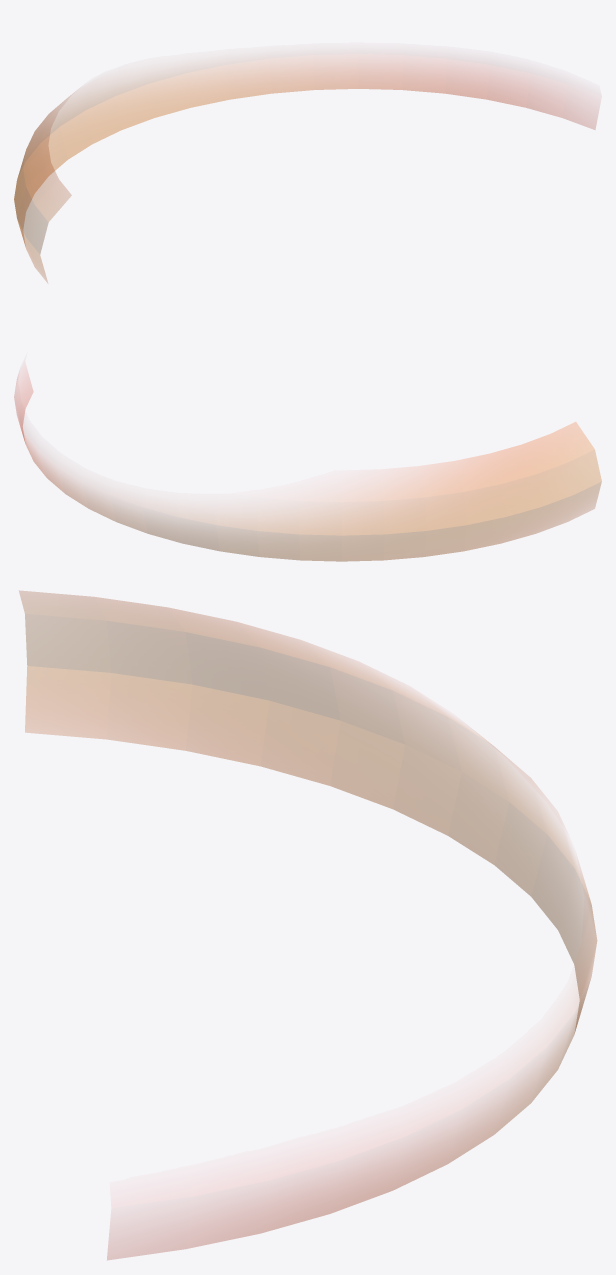
File: solarflare.obj
3 views of the same model, one above another, from view 1: azimuth 30°, elevation 25°; view 2: azimuth 150°, elevation 25°; view 3: azimuth 270°, elevation 25° (orthographic). The views are drawn at different scales.
Parts seen in each view (by area): view 1: Torus; view 2: Torus; view 3: Torus.
Part boxes in pixels (x1,y1,x2,y2): Torus: [14, 61, 598, 282]; Torus: [14, 376, 601, 561]; Torus: [19, 591, 596, 1259].
Bounding box in the file's own units: 2.45 × 0.3415 × 1.1.
Materials: 1 (1 with a texture image).
